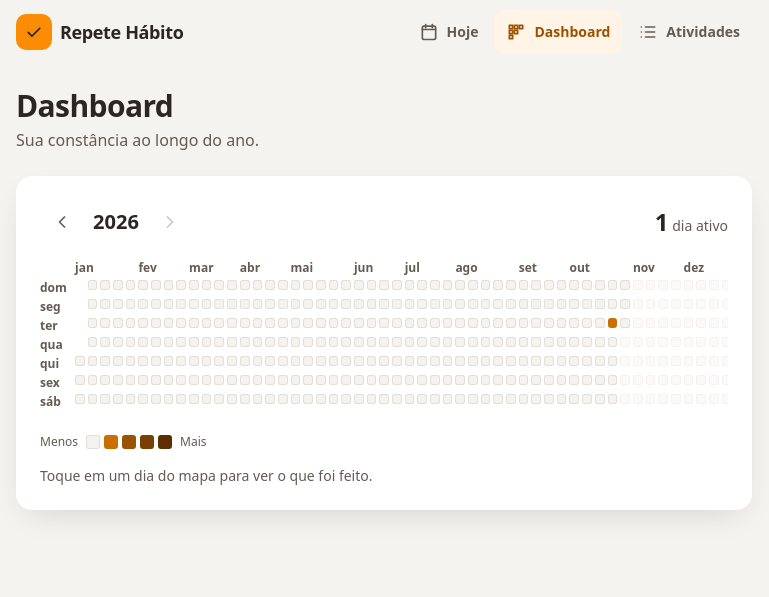
Scenario: DashboardView › não mantém o detalhe de um dia de outro ano ao trocar o ano exibido
The width and height of the screenshot is (769, 597).
Click the button named "20 de outubro" at (612, 323), box [608,318,617,328]
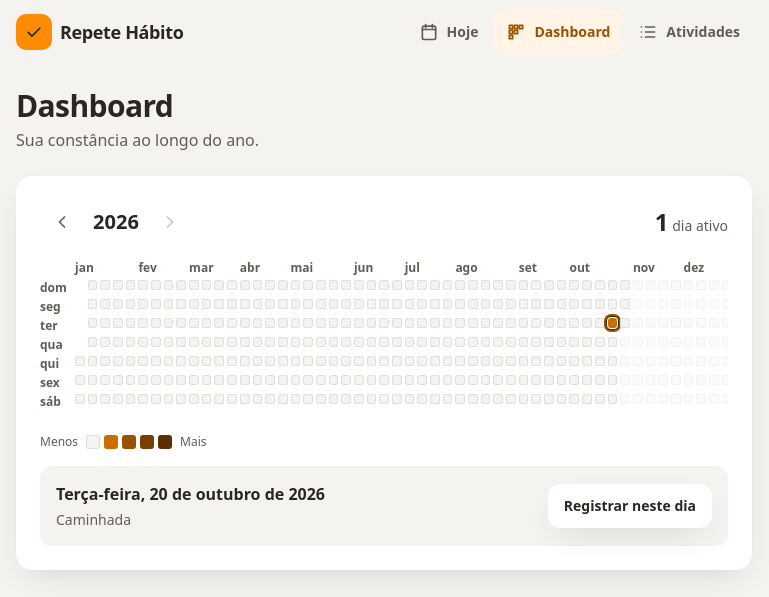
Click the button named "Ano anterior" at (62, 222), box [40,200,84,244]
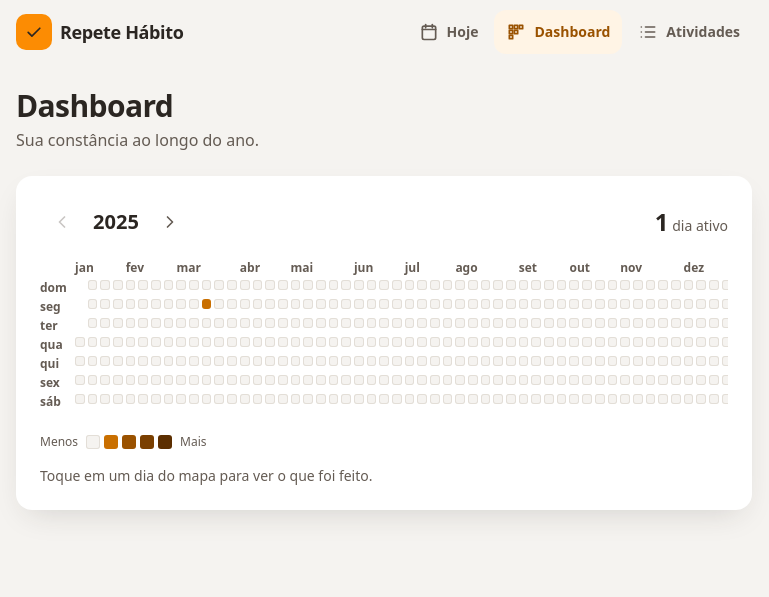
expect the text "Toque em um dia do mapa para ver o que foi feito." is shown: met, box [40,466,372,485]
